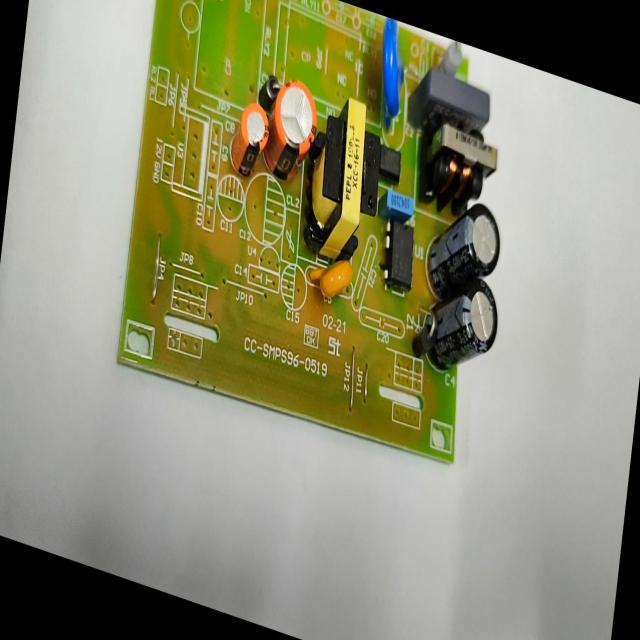Cap1: (266, 70, 322, 196)
Cap2: (230, 94, 271, 186)
Cap3: (426, 185, 506, 310)
Cap4: (421, 263, 504, 388)
MOSFET: (376, 216, 421, 305)
Mov: (370, 16, 419, 144)
Resistor: (437, 37, 471, 82)
Transformer: (306, 84, 377, 274), (419, 112, 505, 220)
